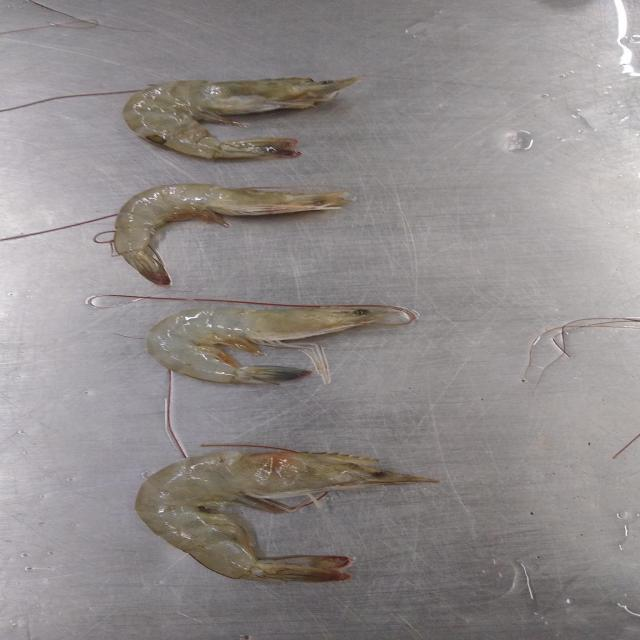shrimp: (136, 451, 436, 582), (113, 184, 349, 285), (122, 76, 362, 159), (147, 306, 398, 384)
